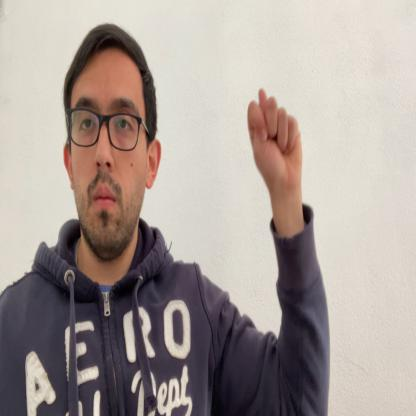T: (247, 86, 302, 189)
